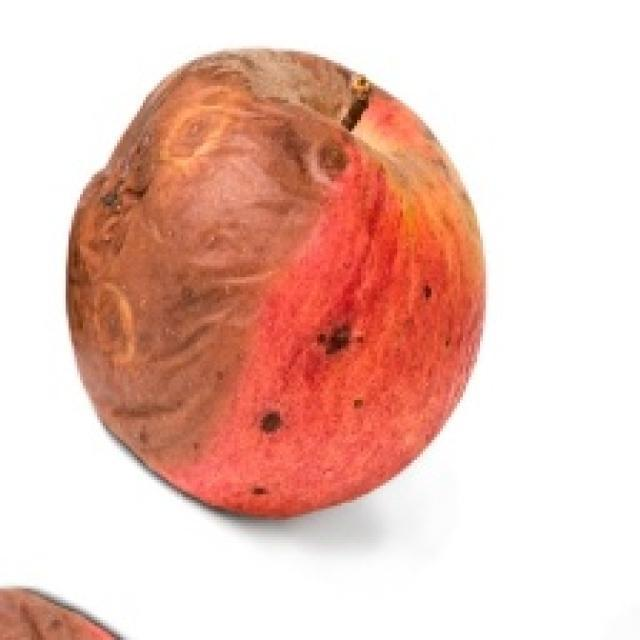apple: (67, 50, 484, 516), (67, 50, 484, 516)
